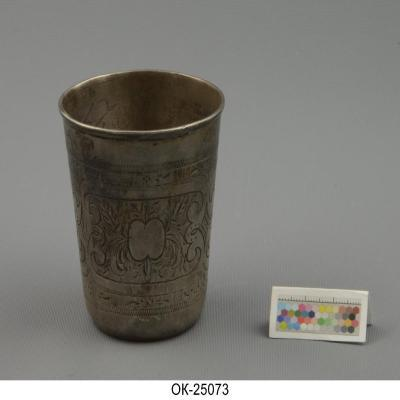dpi: (57, 71, 226, 344)
